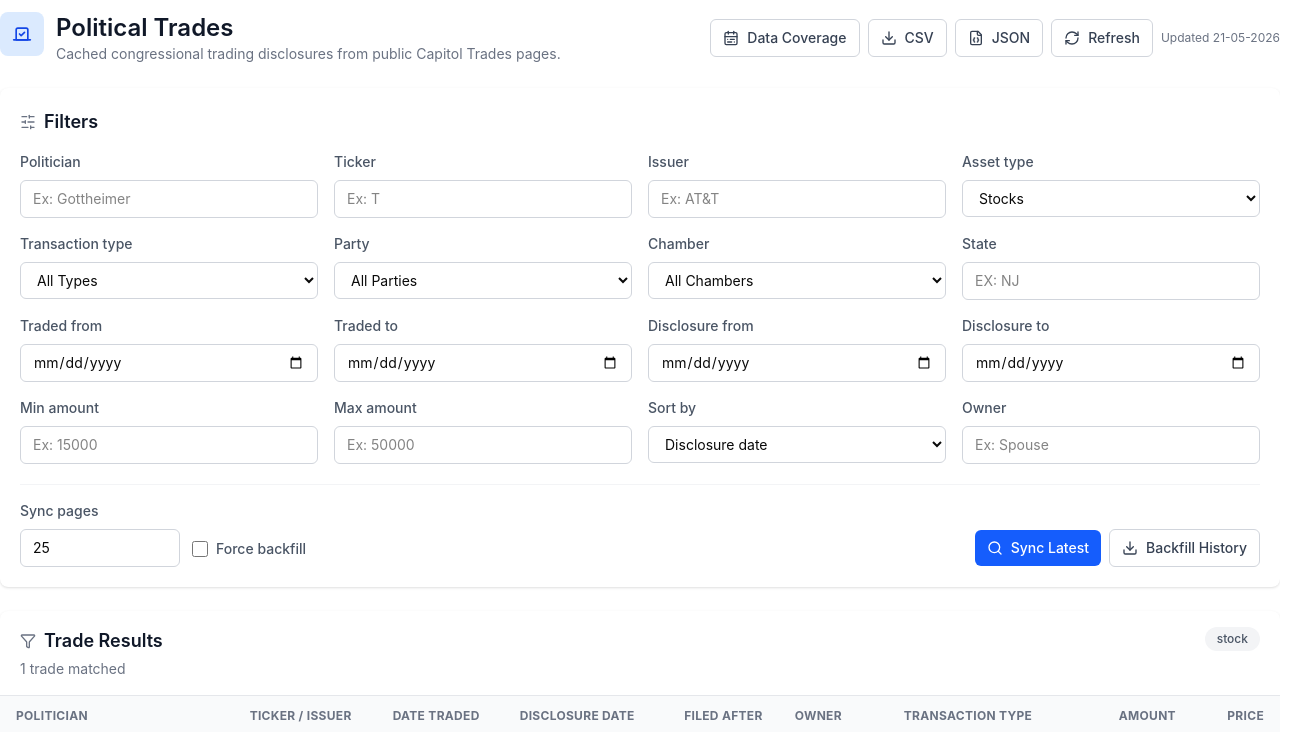
Test: PoliticalTradesPage › shows sync failures without refreshing stale results
Click the button "Sync Latest" at (1038, 548), box [975,530,1101,566]
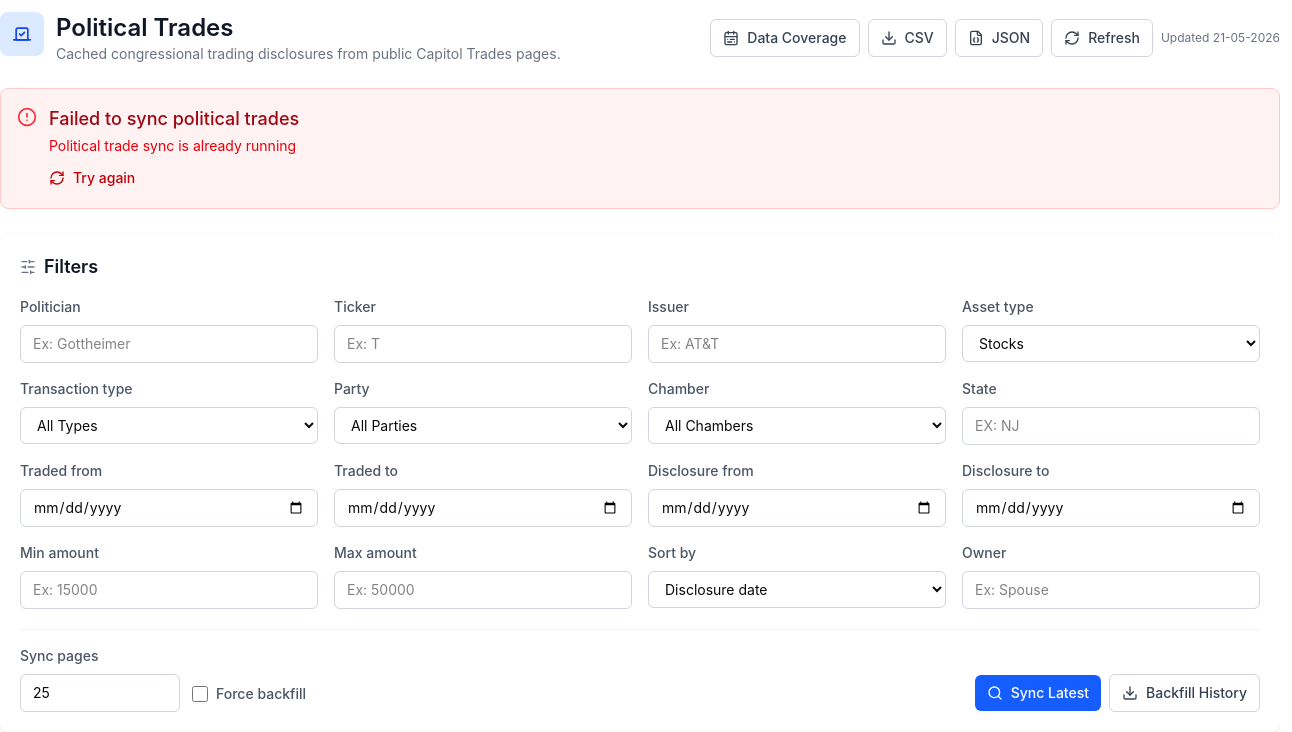
Now the heading "Failed to sync political trades" is shown, box [49,108,299,129]
Now the text "Political trade sync is already running" is shown, box [49,137,296,154]
